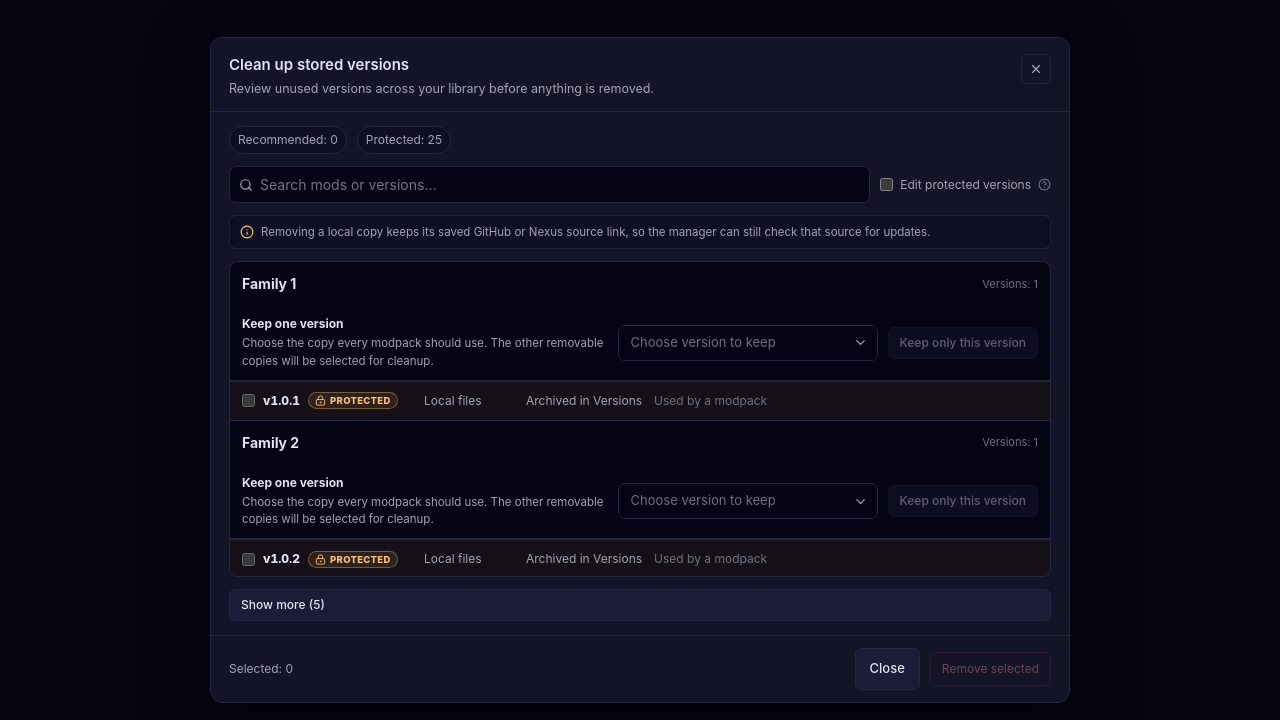
it: <VersionCleanupModal> › keeps large previews bounded and filters by version and provider
Expected: the text "Family 25" is not shown
Click the button "Show more (5)" at {"x": 283, "y": 605}, box top-left (229, 589), bottom-right (1051, 621)
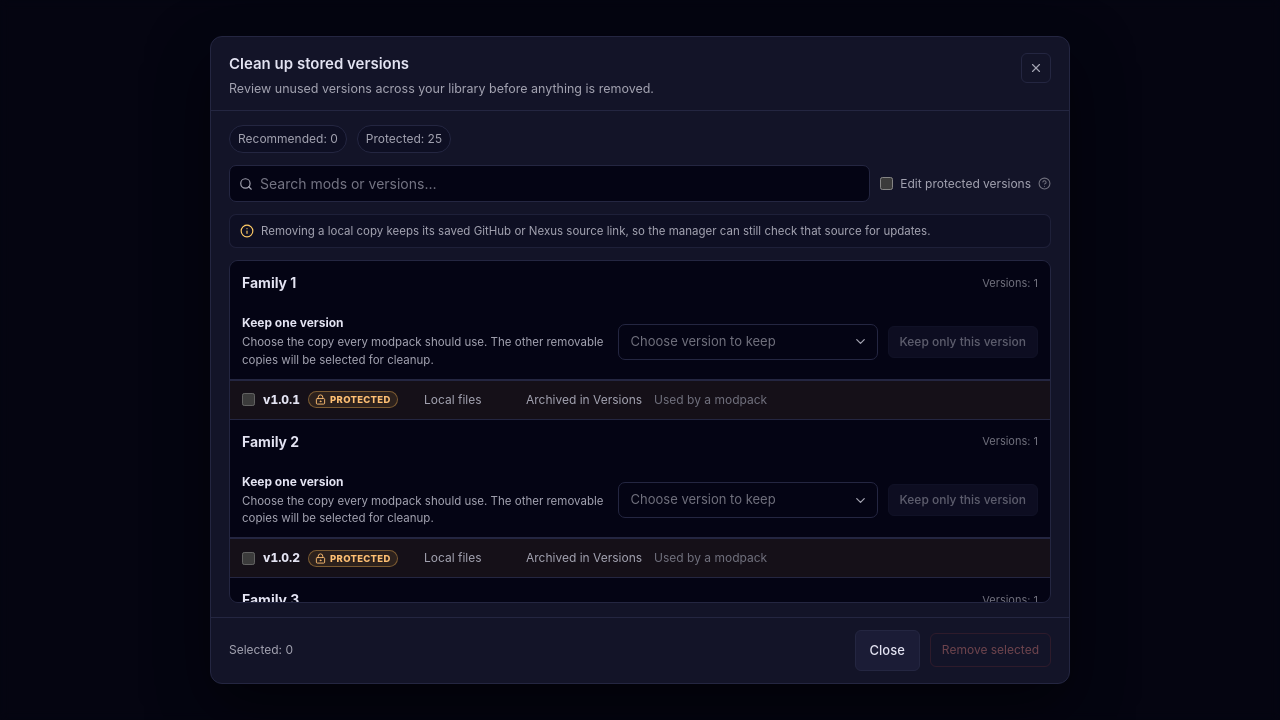
Type "1.0.25" into the field labelled "Search mods or versions…" at {"x": 560, "y": 184}, box top-left (260, 173), bottom-right (860, 194)
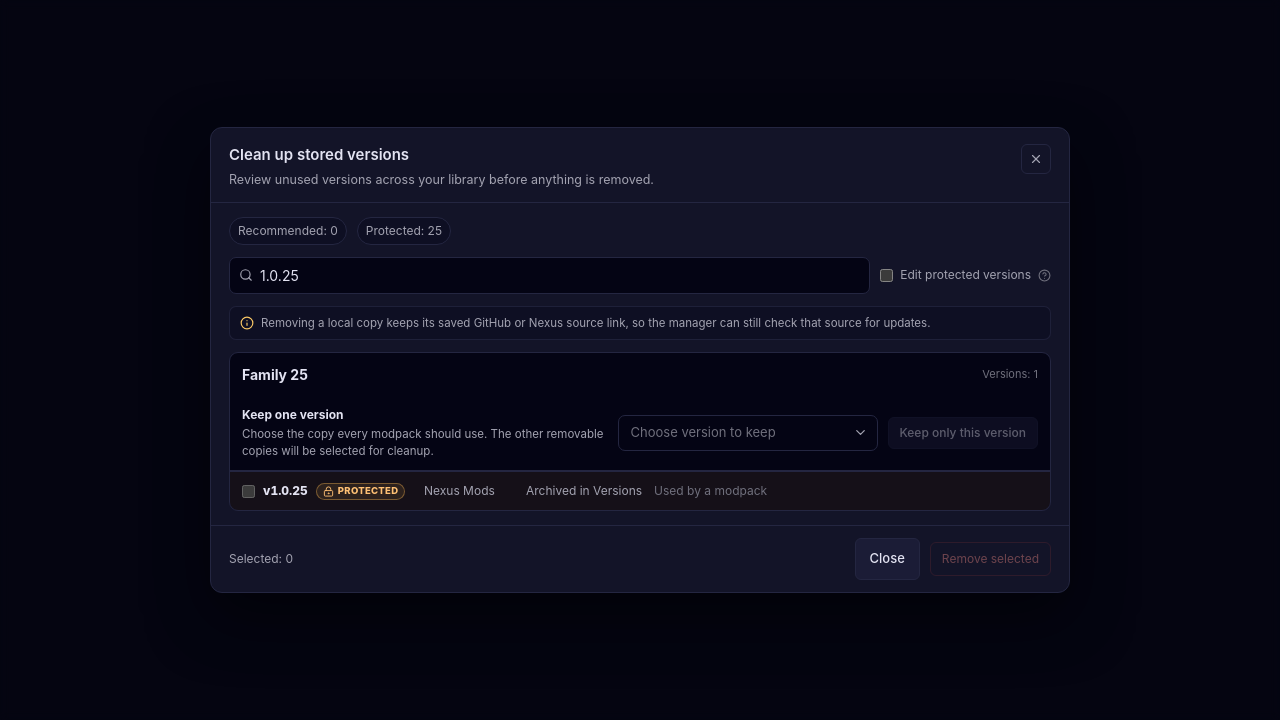
Expected: the text "Family 25" is shown, top-left (242, 364), bottom-right (308, 385)
Clear the field named "Search mods or versions" at {"x": 560, "y": 275}, box top-left (260, 265), bottom-right (860, 286)
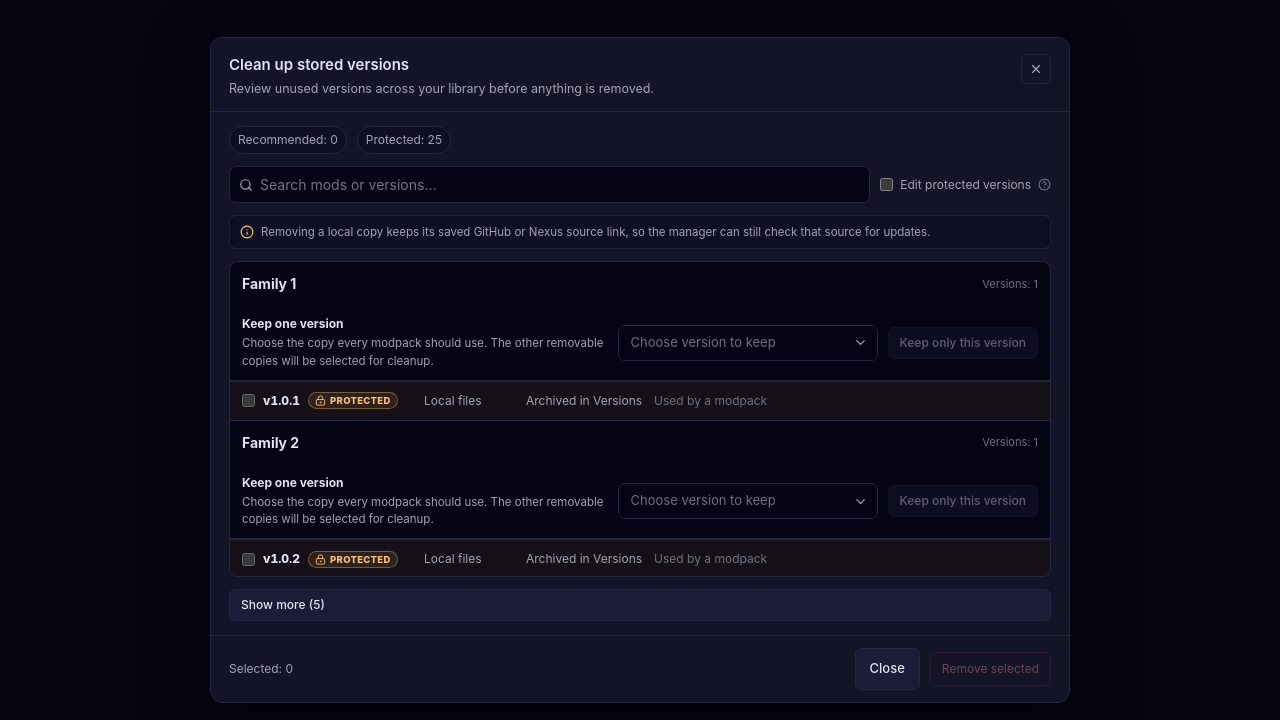
Type "nexus" into the field labelled "Search mods or versions…" at {"x": 560, "y": 185}, box top-left (260, 174), bottom-right (860, 195)
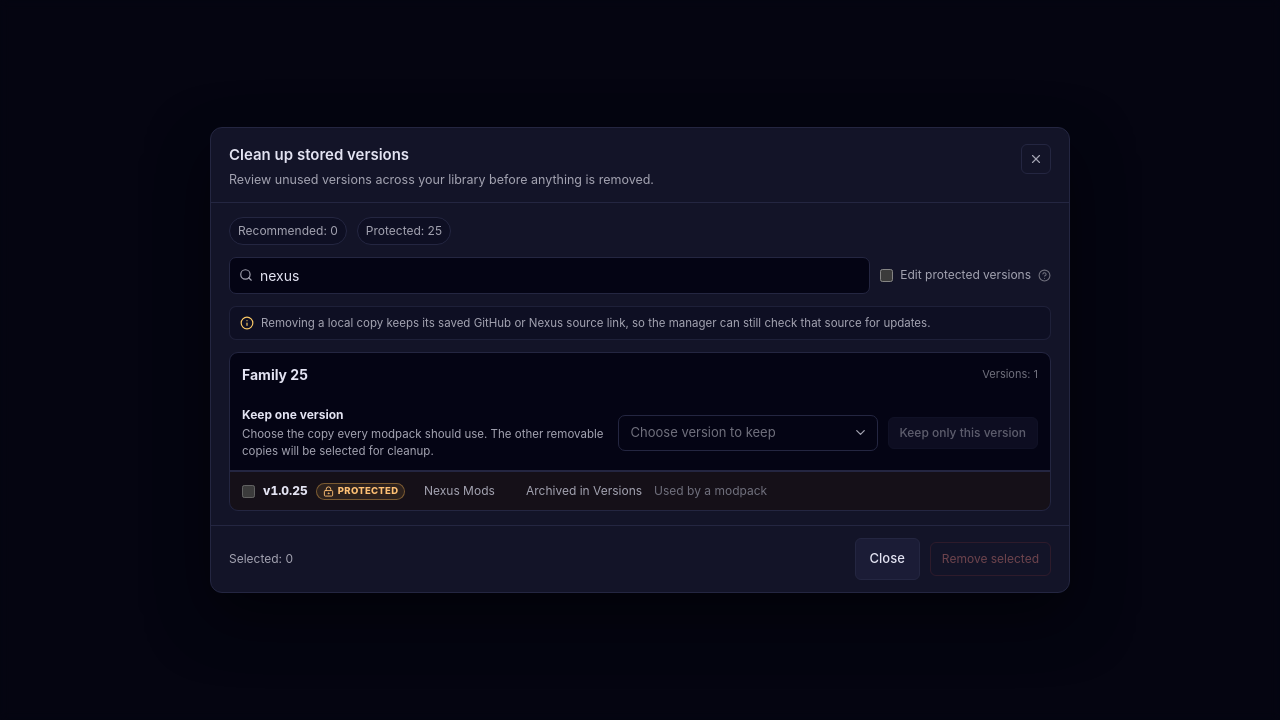
Expected: the text "Family 25" is shown, top-left (242, 364), bottom-right (308, 385)
